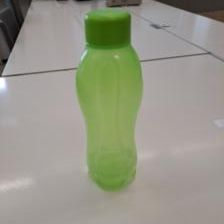bottle: (74, 7, 142, 192)
